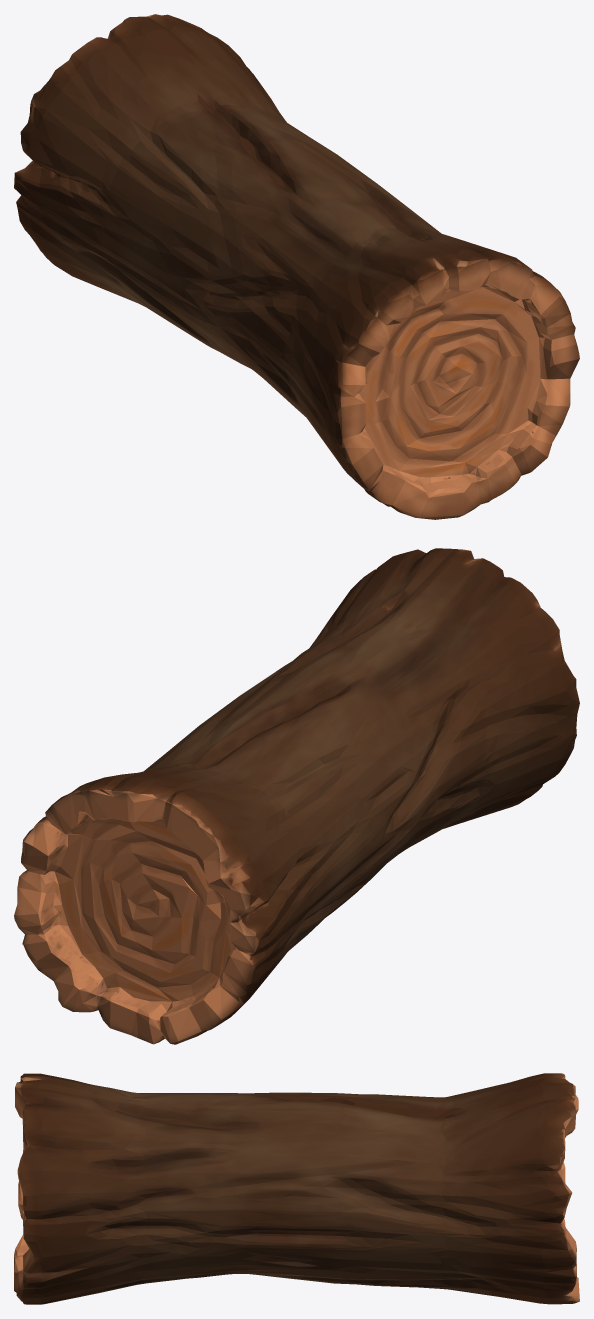
Rendered from wood.fbx.
3 views of the same model, one above another, from view 1: azimuth 30°, elevation 25°; view 2: azimuth 150°, elevation 25°; view 3: azimuth 270°, elevation 25° (orthographic). The views are drawn at different scales.
Visible parts, largest first — view 1: Cylinder; view 2: Cylinder; view 3: Cylinder.
Boxes of the visible parts, x1=… form: Cylinder: x1=14, y1=14, x2=579, y2=519; Cylinder: x1=14, y1=548, x2=579, y2=1044; Cylinder: x1=14, y1=1073, x2=579, y2=1304.
Size of the model in its own units: 167 by 168 by 409.
